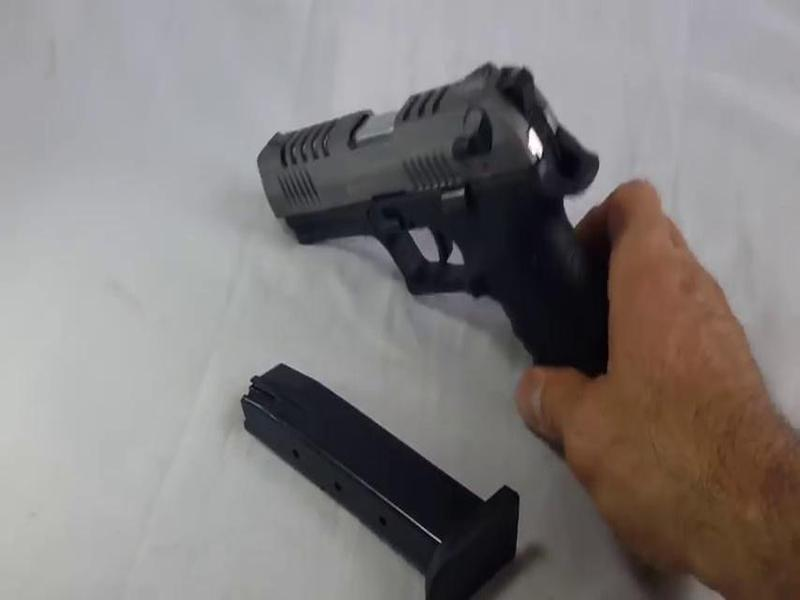Pistola: (212, 33, 656, 424)
